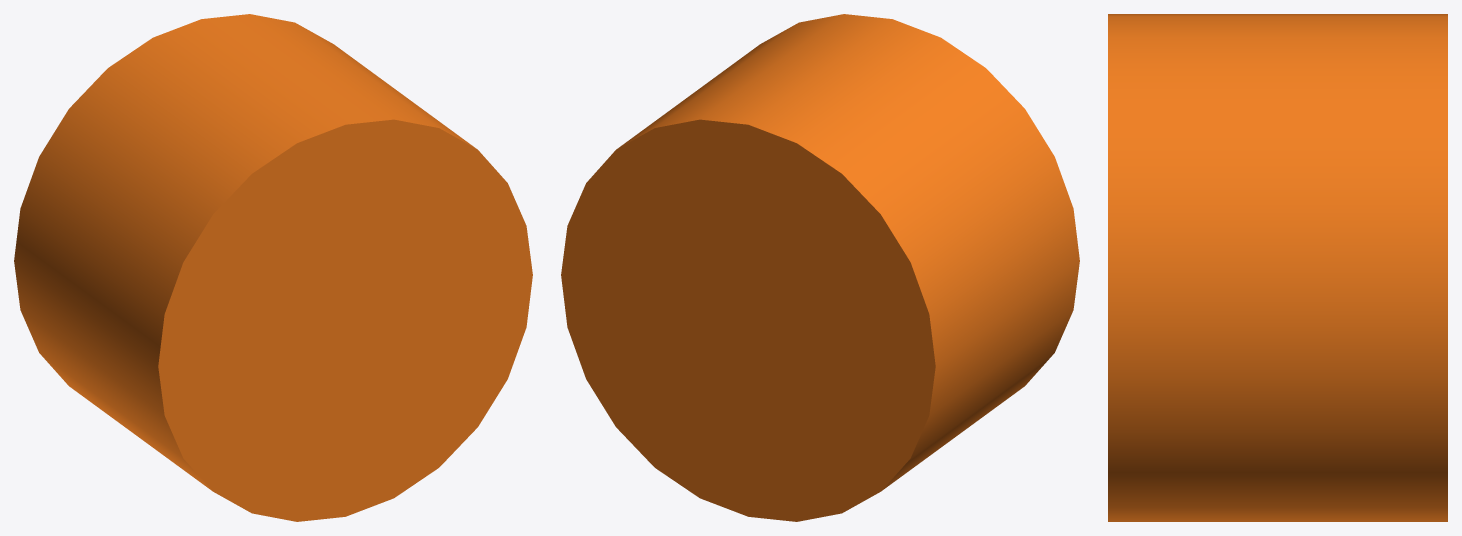
3 views of the same model, side by side, from view 1: azimuth 30°, elevation 25°; view 2: azimuth 150°, elevation 25°; view 3: azimuth 270°, elevation 25° (orthographic). The views are drawn at different scales.
Visible parts, largest first — view 1: gripper_frame; view 2: gripper_frame; view 3: gripper_frame.
Part boxes in pixels (bbox=[...]): gripper_frame: bbox=[14, 14, 532, 521]; gripper_frame: bbox=[561, 14, 1079, 521]; gripper_frame: bbox=[1108, 14, 1447, 521].
Size of the model in its own units: 0.015 by 0.015 by 0.01.
